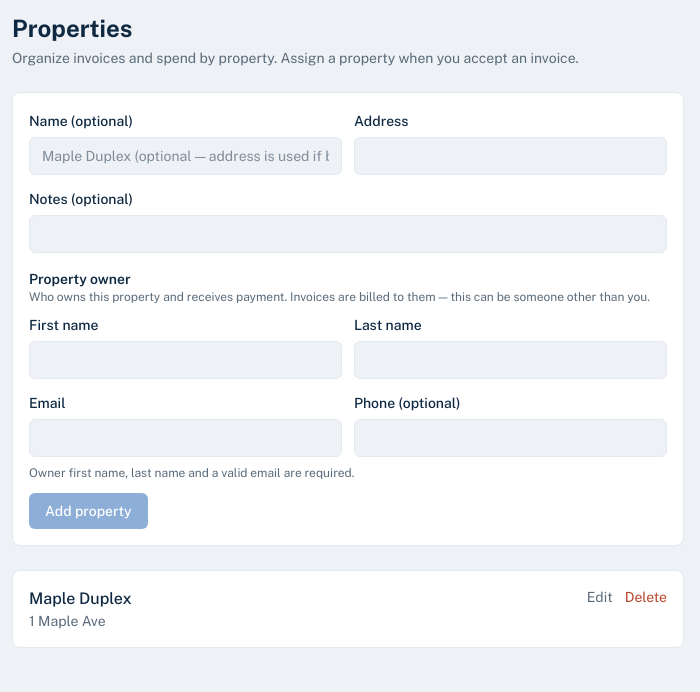
Test: Properties page › surfaces the delete-guard error inline with a reassign link
Click the button "Delete". click: coordinates (646, 597)
box: x1=625 y1=587 x2=667 y2=607
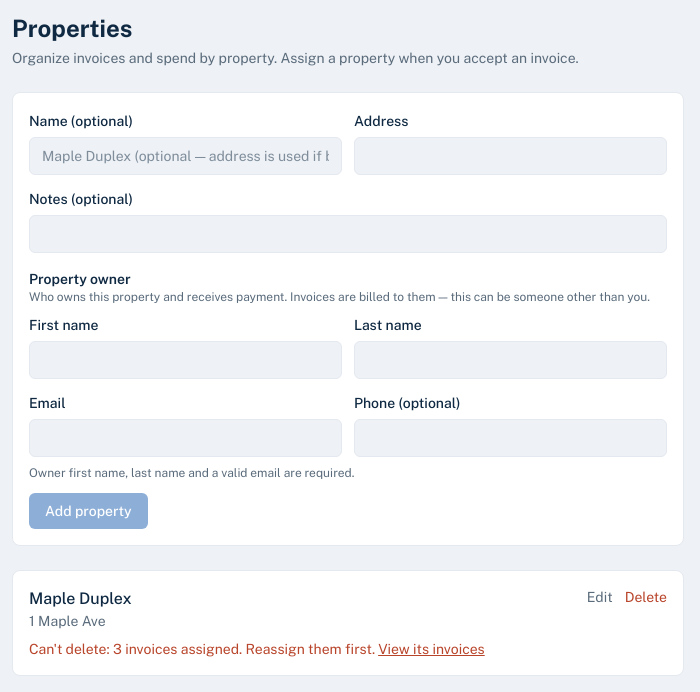
Expected: the text "Can't delete: 3 invoices assigned. Reassign them first. View its invoices" is shown, x1=29 y1=641 x2=485 y2=657
